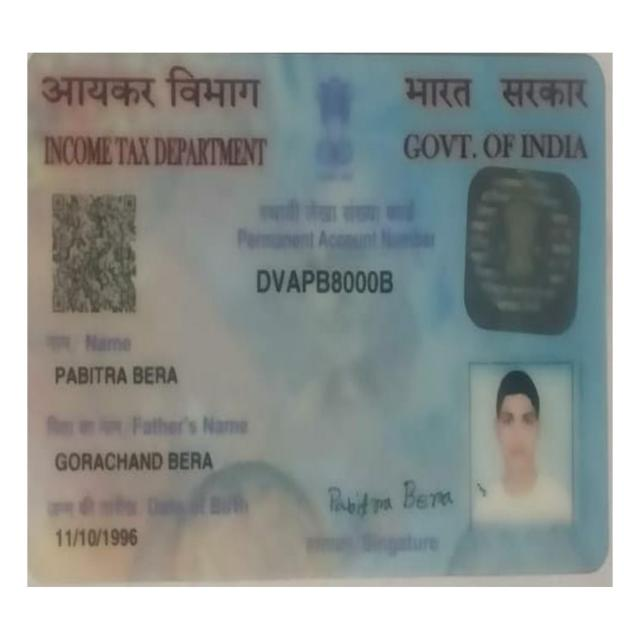pan_card: (27, 60, 601, 579)
